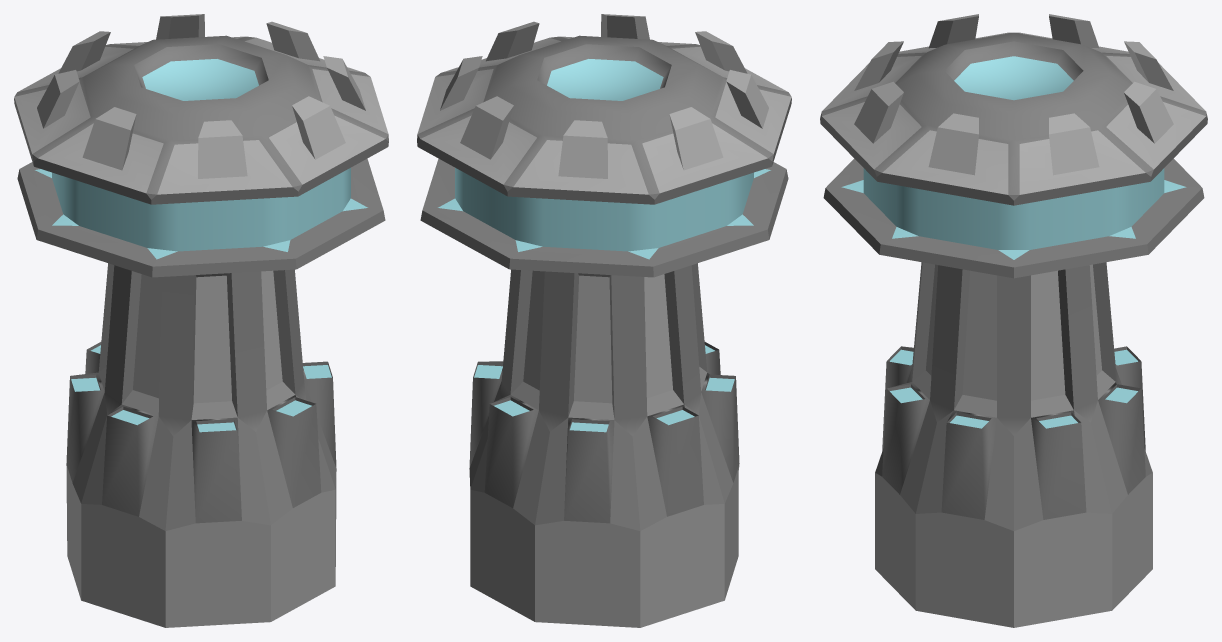
Rendered from Tower Watch.fbx.
The picture shows the model from 3 angles, left to right: view 1: azimuth 30°, elevation 25°; view 2: azimuth 150°, elevation 25°; view 3: azimuth 270°, elevation 25°; orthographic projection.
Parts seen in each view (by area): view 1: watch_tower; view 2: watch_tower; view 3: watch_tower.
Part boxes in pixels (box(x1,y1,x2,y2)): watch_tower: box(14, 14, 388, 627); watch_tower: box(417, 14, 791, 627); watch_tower: box(820, 14, 1207, 627).
Bounding box in the file's own units: 43.17 × 62.02 × 43.17.
